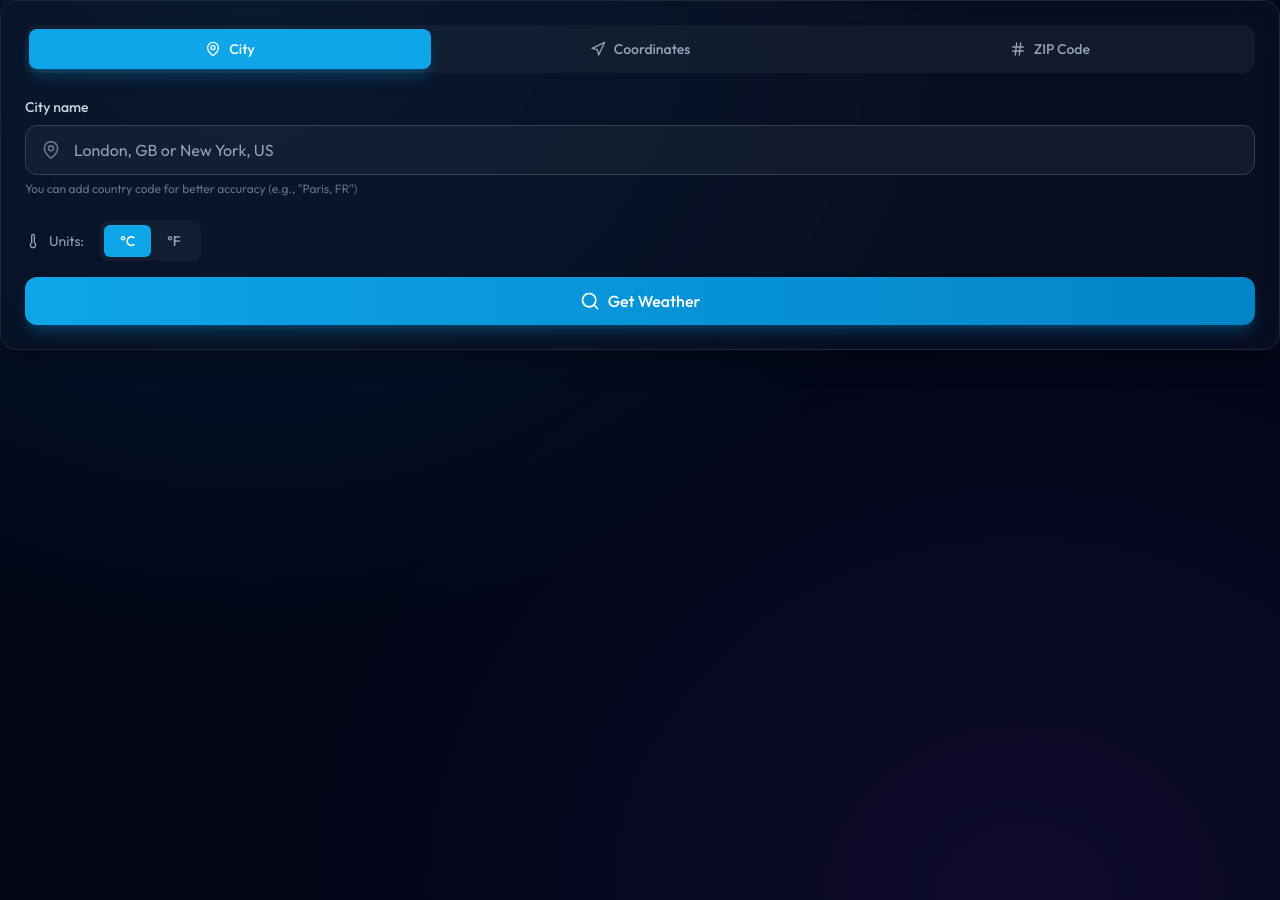
Test: WeatherSearch Component › switches to coordinates input when tab clicked
What coordinates should you click on to do the following:
click the button "Coordinates"
I would click on:
 (640, 49)
Its box is [439,29,841,69].
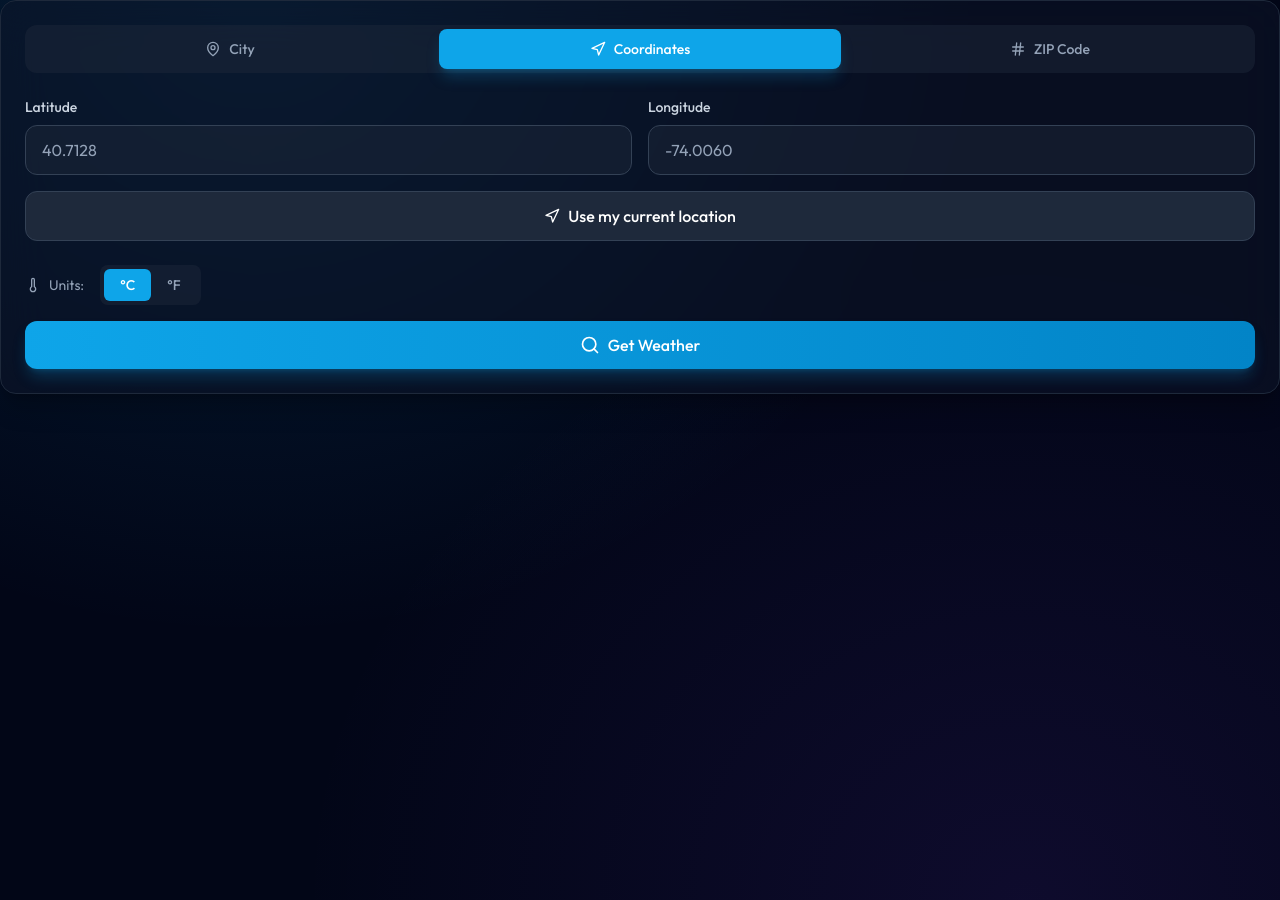
Expected: the number field with placeholder "40.7128" is shown, [25,125,632,175]
Expected: the number field with placeholder "-74.0060" is shown, [648,125,1255,175]
